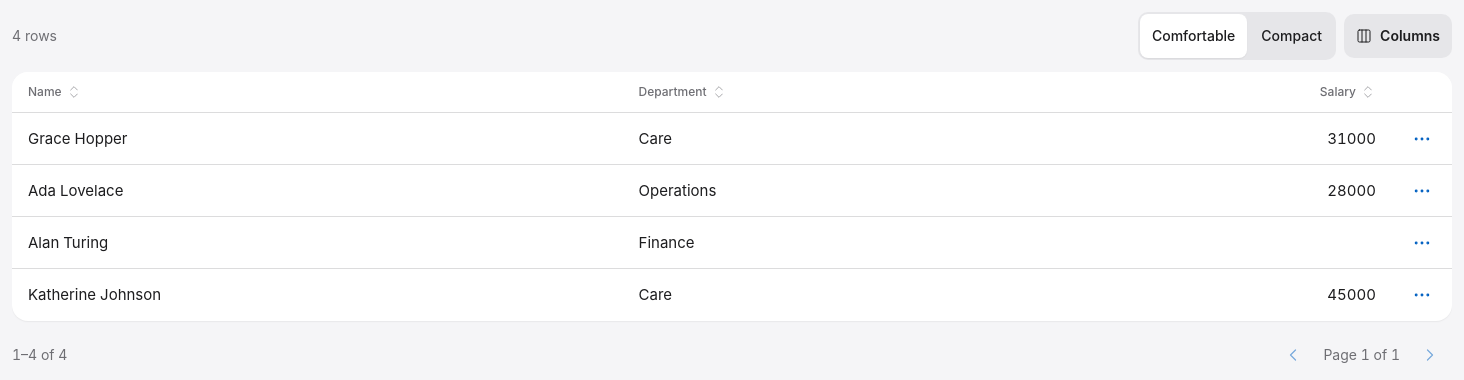
Test: DataTable row menu › the button opens that row's menu, and choosing an item runs it
Click the button named "Actions for Alan Turing". click: {"x": 1422, "y": 242}
box: [1400, 220, 1444, 264]
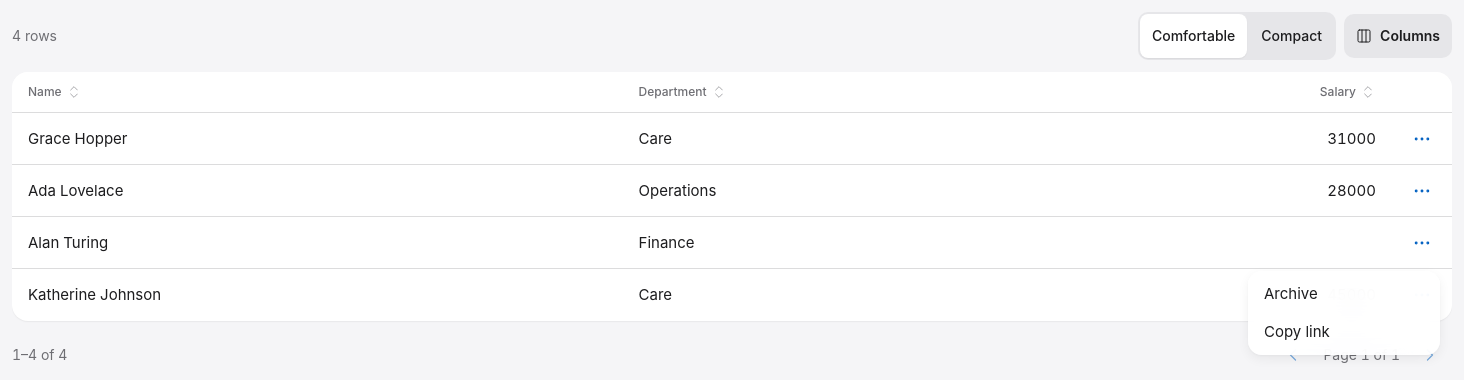
Expected: the number of menu items is 2
Click the menu item "Archive". click: {"x": 1291, "y": 294}
box: [1264, 284, 1318, 303]
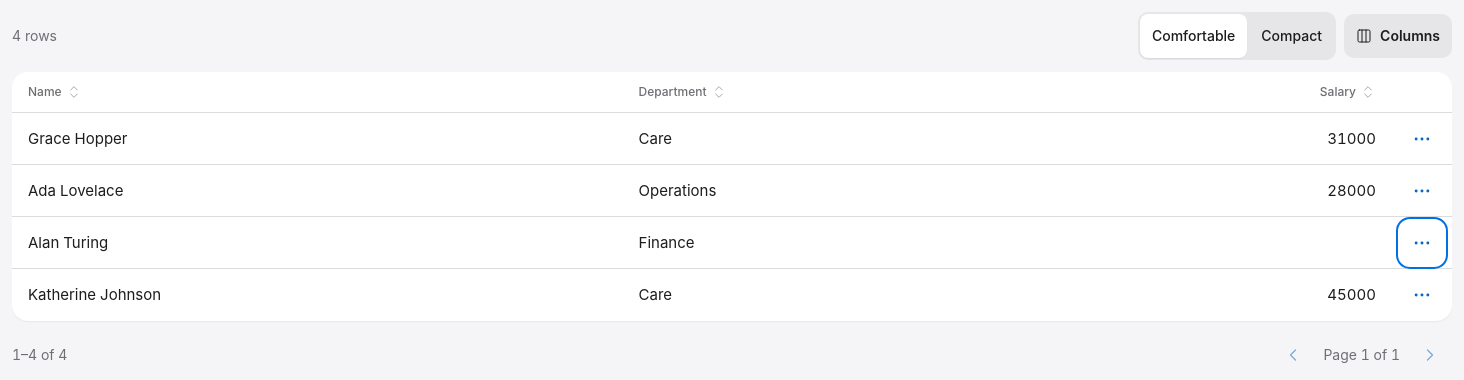
Expected: the menu is gone
